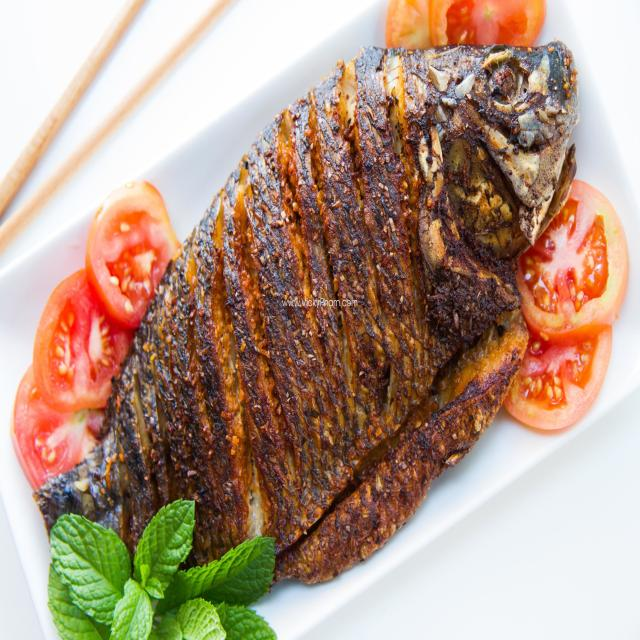Peixe: (28, 38, 581, 592)
